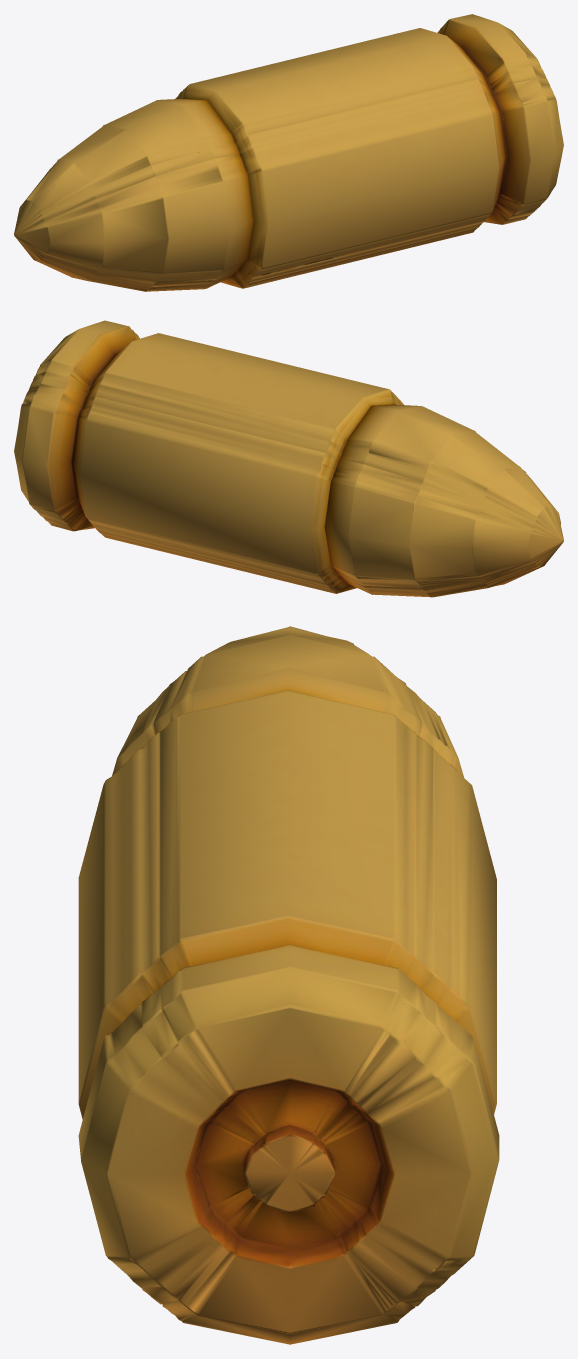
3 renders of one model, top to bottom at view 1: azimuth 30°, elevation 25°; view 2: azimuth 150°, elevation 25°; view 3: azimuth 270°, elevation 25°, orthographic. The views are drawn at different scales.
Parts seen in each view (by area): view 1: tripo_node_2ed188a7-1cd6-46e7-87bc-35da7f1d1e26; view 2: tripo_node_2ed188a7-1cd6-46e7-87bc-35da7f1d1e26; view 3: tripo_node_2ed188a7-1cd6-46e7-87bc-35da7f1d1e26.
Part boxes in pixels (x1,y1,x2,y2): tripo_node_2ed188a7-1cd6-46e7-87bc-35da7f1d1e26: (14,14,563,291); tripo_node_2ed188a7-1cd6-46e7-87bc-35da7f1d1e26: (14,320,563,597); tripo_node_2ed188a7-1cd6-46e7-87bc-35da7f1d1e26: (78,626,499,1344).
Bounding box in the file's own units: 0.998 × 0.3652 × 0.3613.
Materials: 1 (1 with a texture image).
